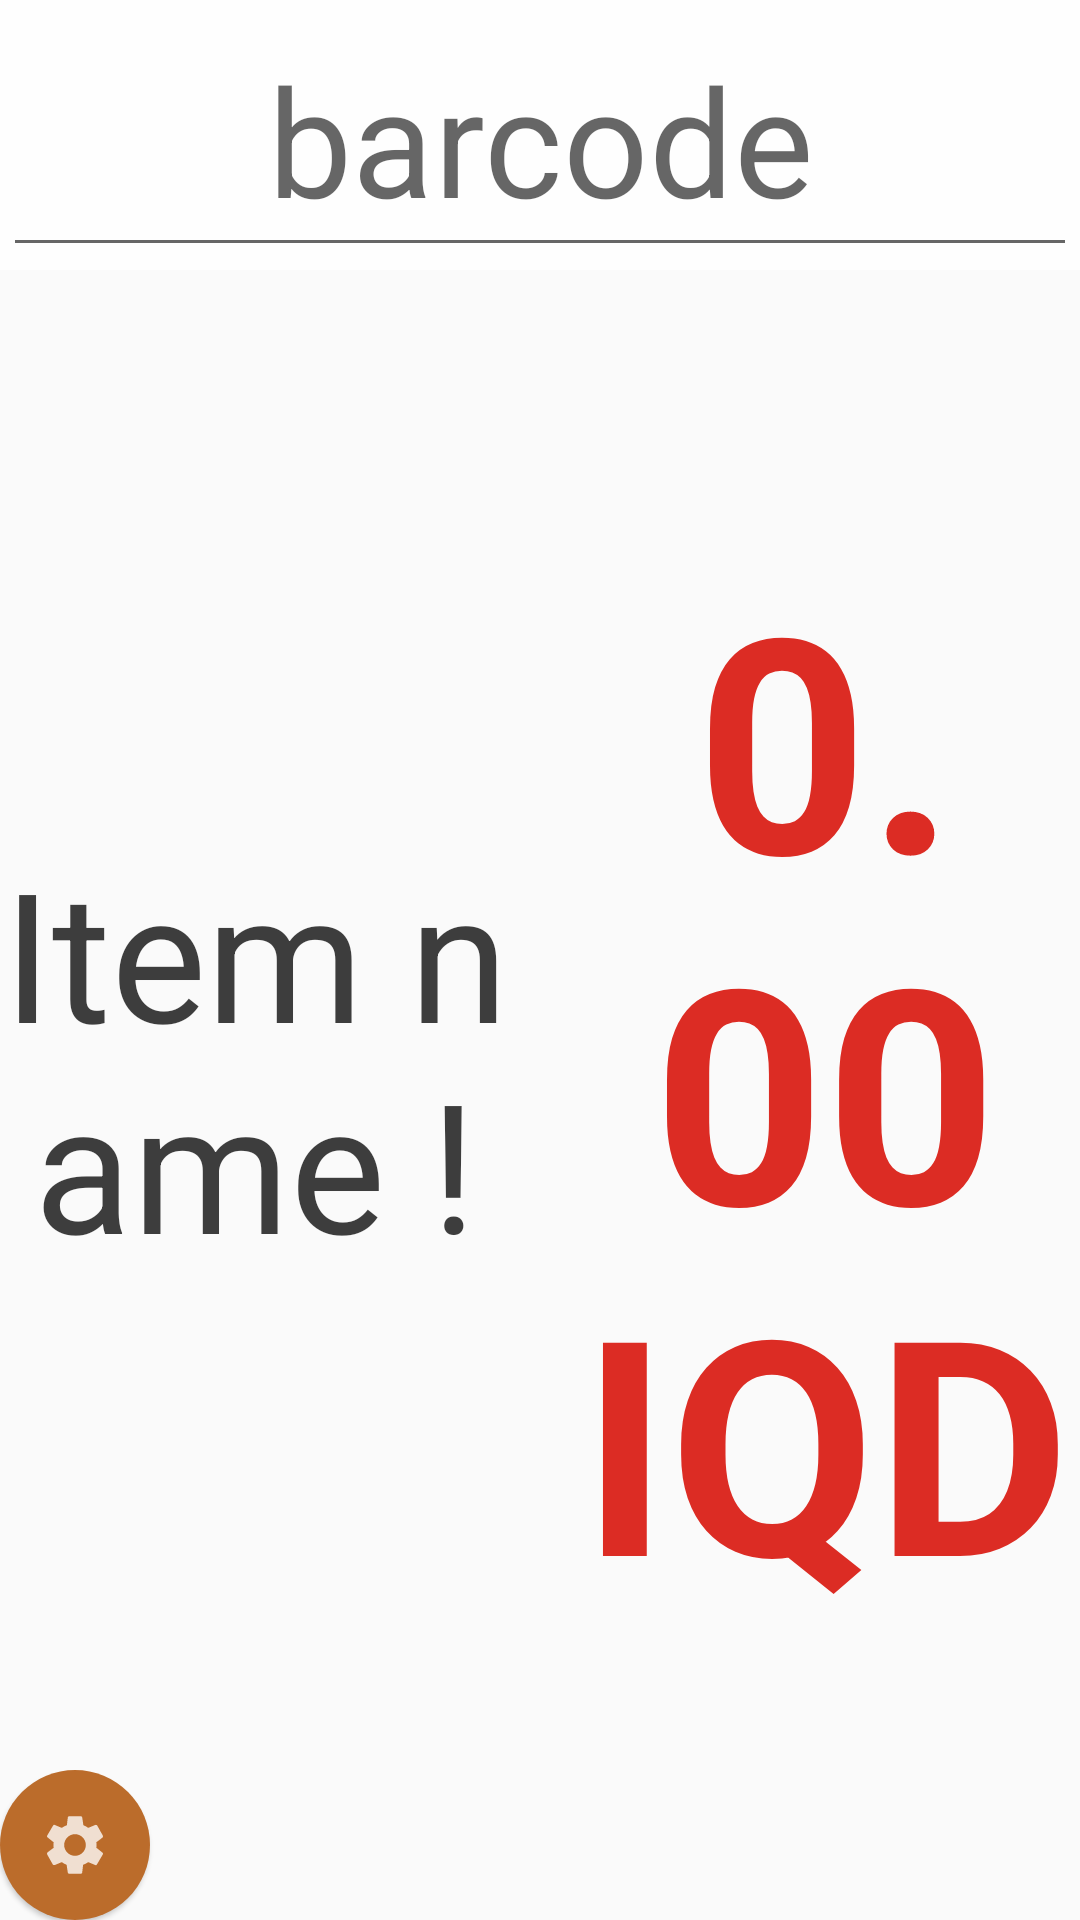

Icons on this 1080w x 1920h Android screen, each with its box as (x1, y1, x2, y2):
settings: (0, 1770, 150, 1920)
